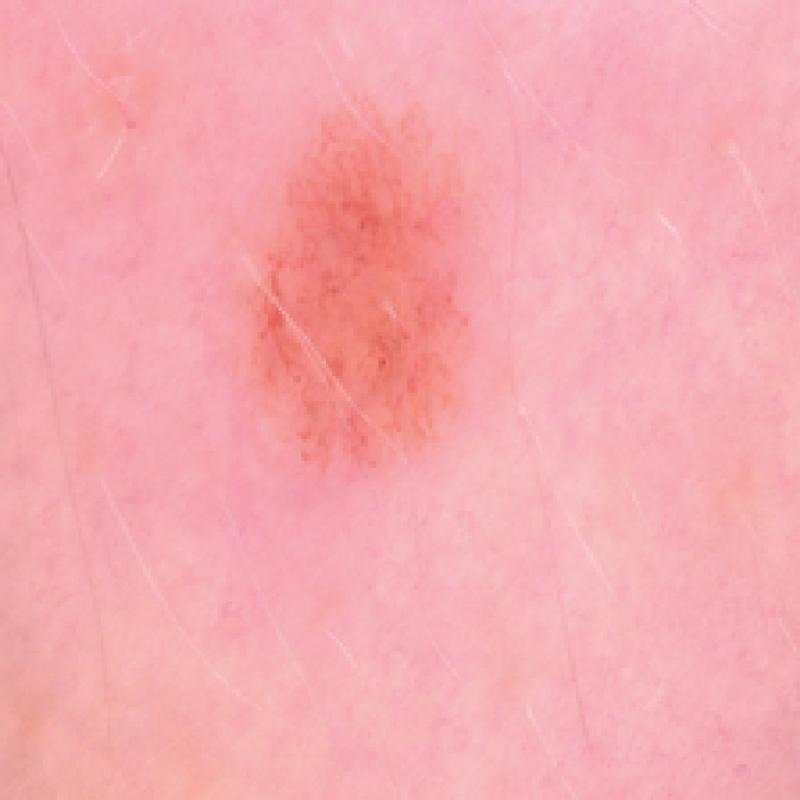benign: (236, 94, 520, 494)
